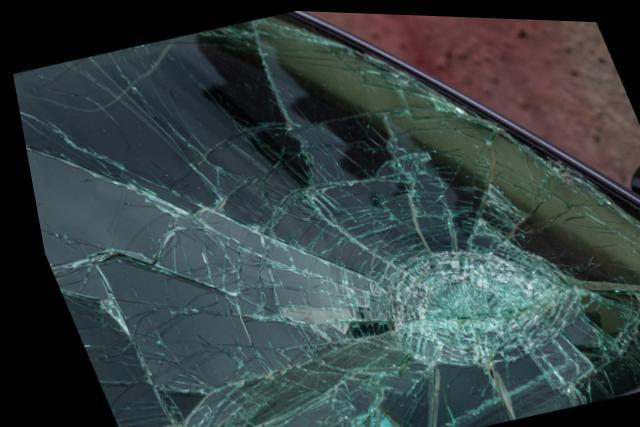glass shatter: (10, 9, 640, 427)
